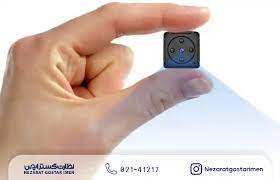Camera: (156, 29, 205, 70)
